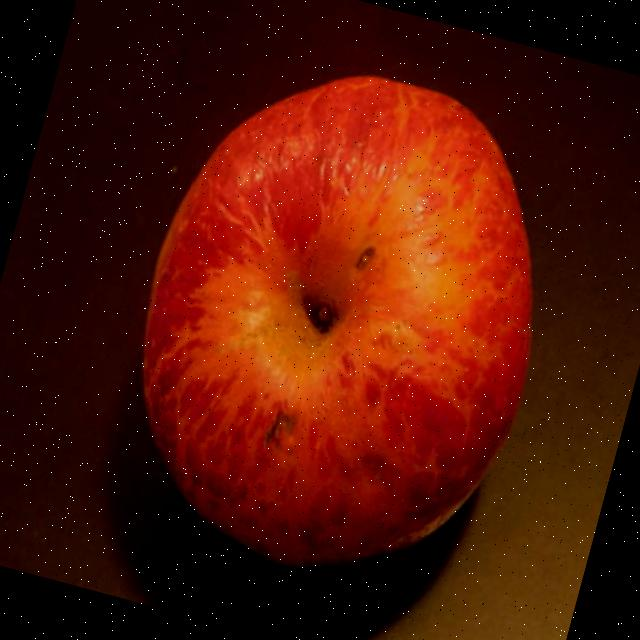overripe: (88, 21, 596, 610)
